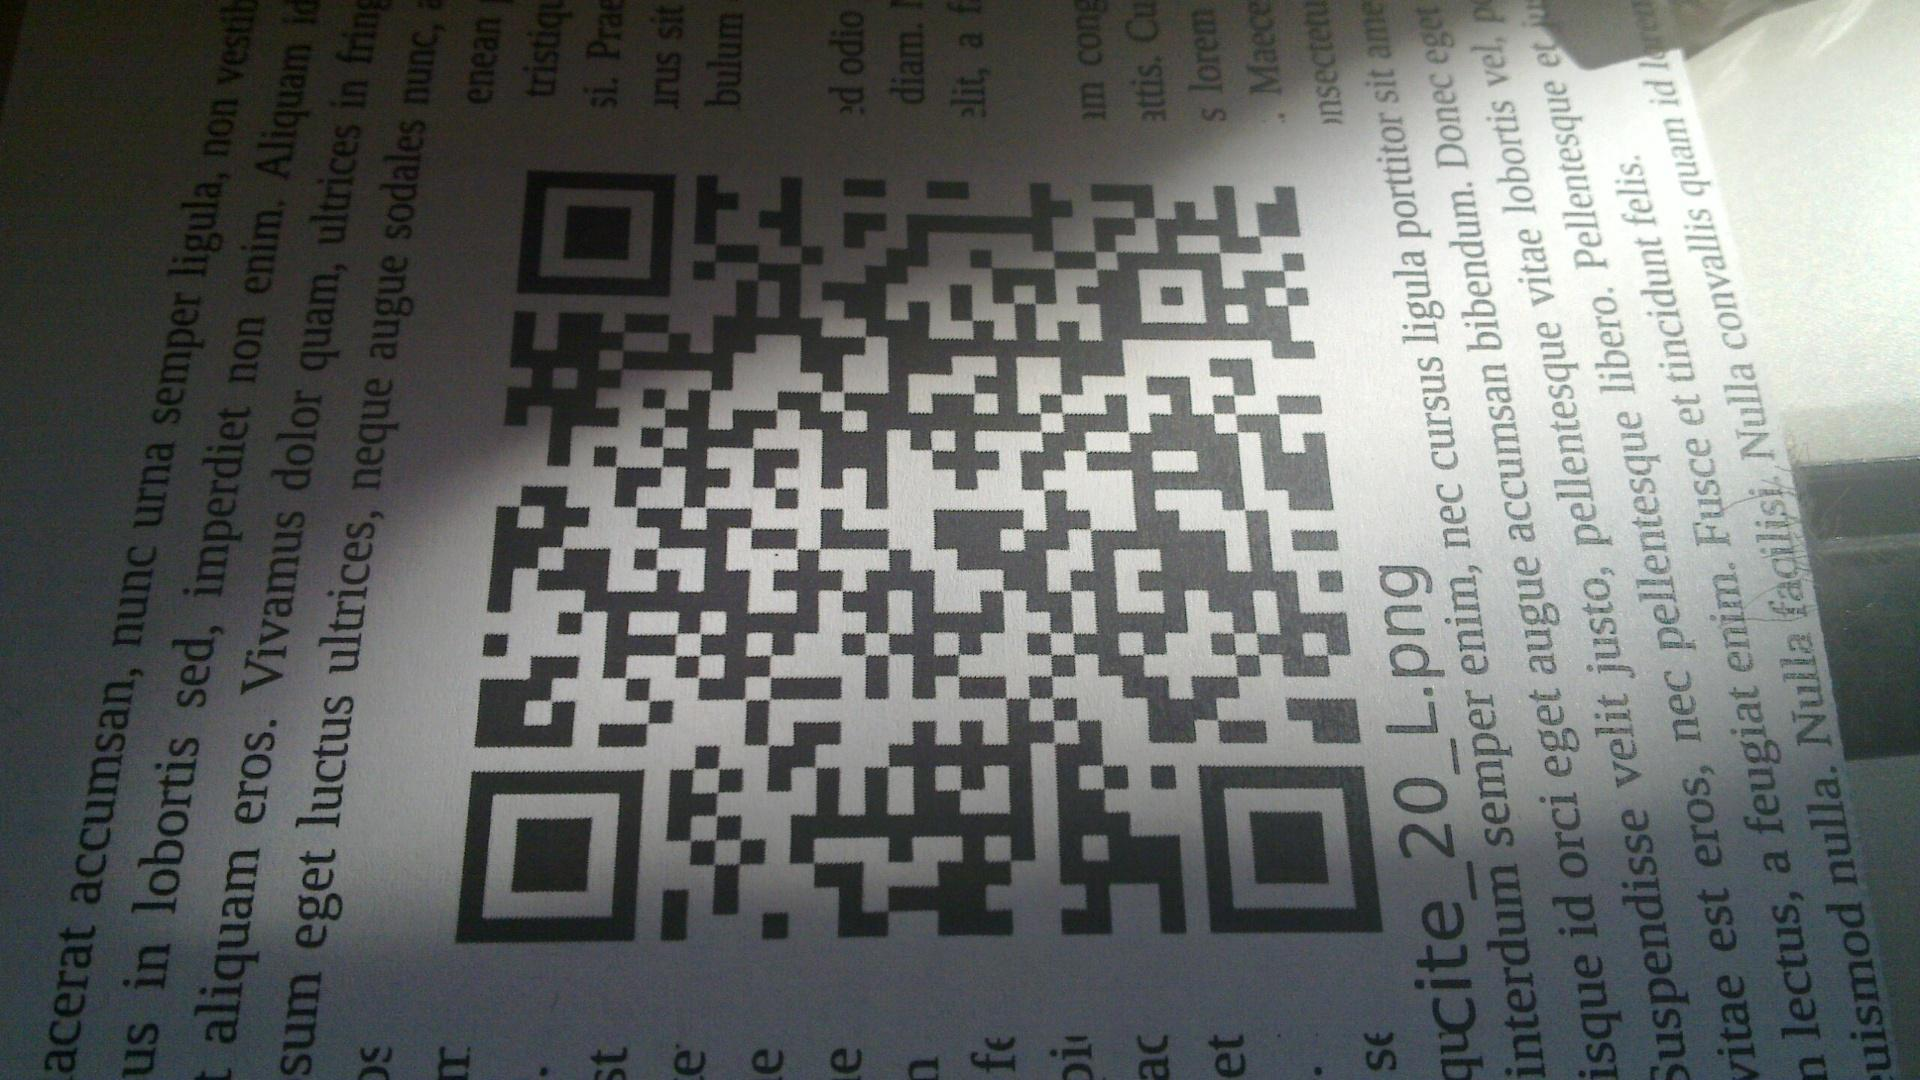Finder pattern: (1189, 754, 1395, 938), (454, 760, 645, 948), (514, 160, 684, 309)
